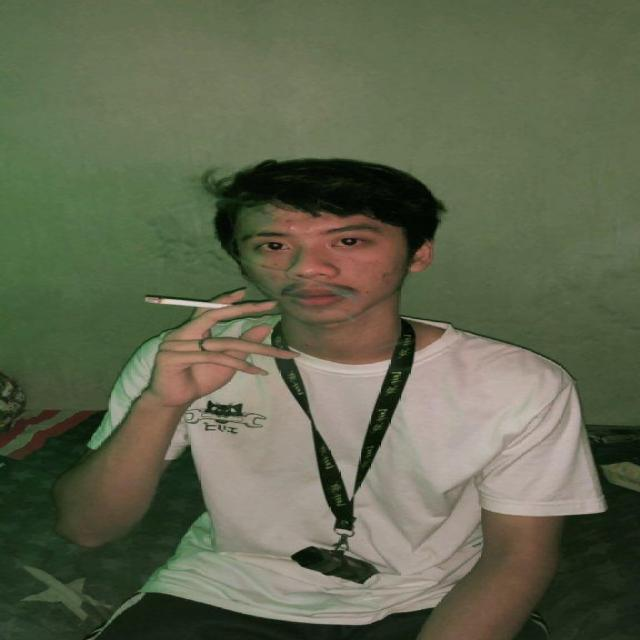rokok: (144, 294, 228, 310)
